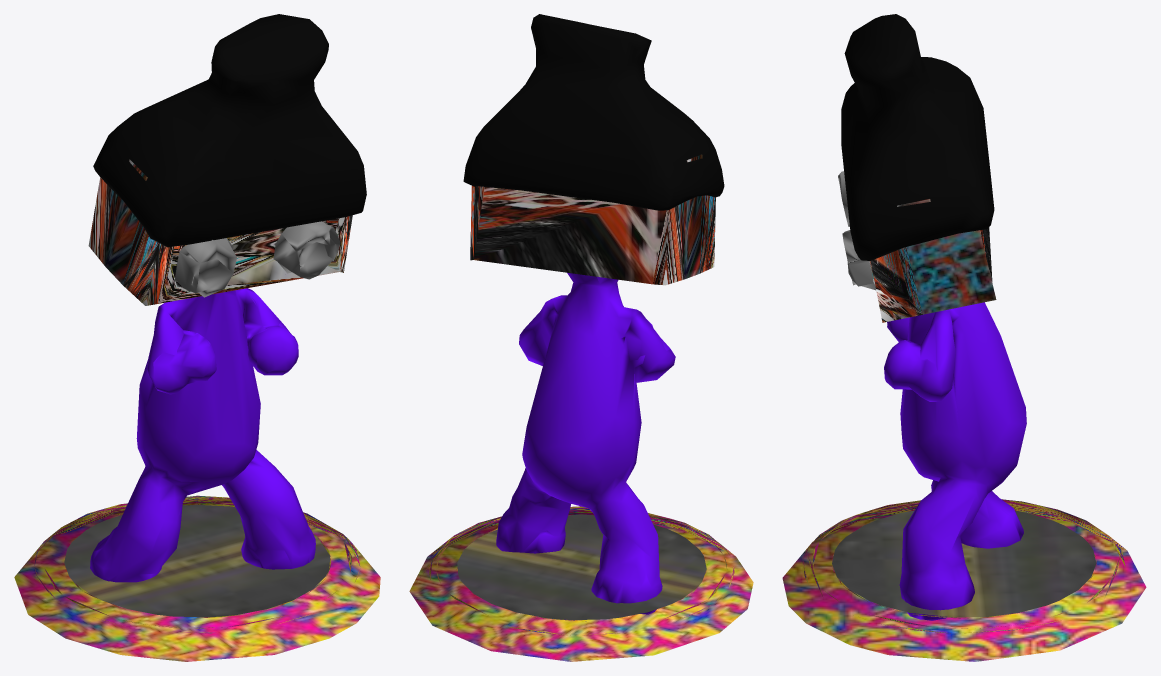
3 views of the same model, side by side, from view 1: azimuth 30°, elevation 25°; view 2: azimuth 150°, elevation 25°; view 3: azimuth 270°, elevation 25° (orthographic). The views are drawn at different scales.
Size of the model in its own units: 1.44 by 2.5 by 1.44.
Materials: 6 (3 with a texture image).
